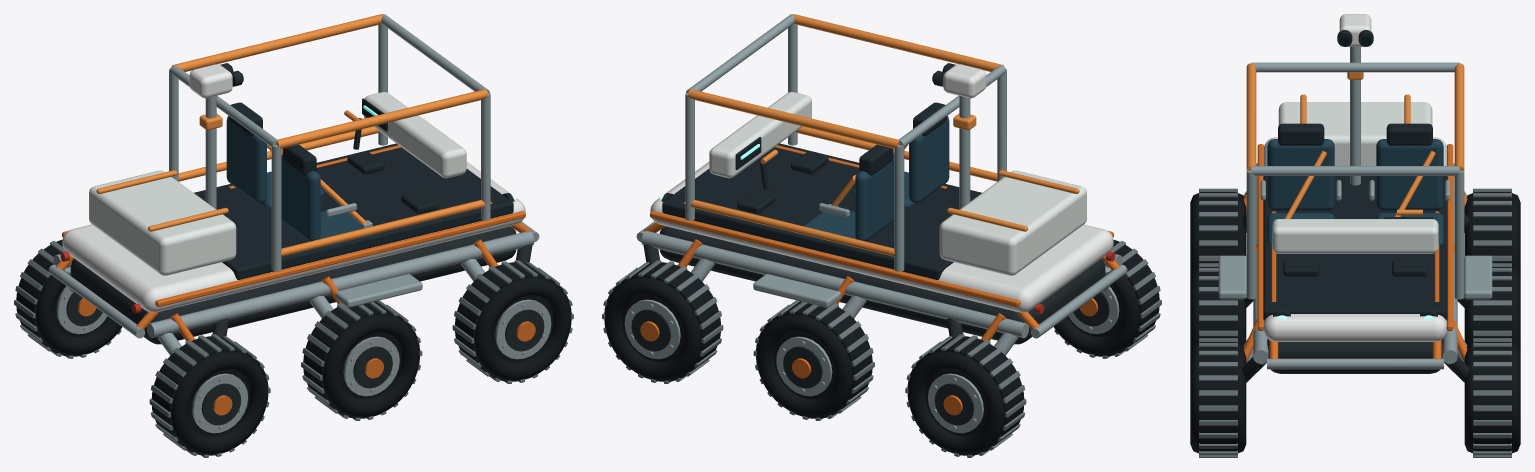
The model's file is rover-crewed.glb.
The picture shows the model from 3 angles, left to right: view 1: azimuth 30°, elevation 25°; view 2: azimuth 150°, elevation 25°; view 3: azimuth 270°, elevation 25°; orthographic projection.
Visible parts, largest first — view 1: rubber (×4), dark, orange (×2), white, titanium (×5), graphite (×5), metal, ceramic (×2), seam (×4), seat; view 2: rubber (×4), dark, orange (×2), white, titanium (×5), graphite (×5), metal, ceramic (×2), seam (×4), seat; view 3: rubber (×6), dark, metal, white, seam (×6), seat, orange (×2), ceramic (×2), graphite, titanium.
Boxes of the visible parts, x1,y1,x2,y2 form: rubber (×4): (16, 239, 571, 455); dark: (194, 98, 513, 279); orange (×2): (55, 14, 532, 340); white: (89, 92, 466, 275); titanium (×5): (48, 221, 551, 433); graphite (×5): (66, 193, 544, 425); metal: (169, 14, 490, 307); ceramic (×2): (62, 64, 525, 312); seam (×4): (14, 241, 573, 457); seat: (226, 116, 375, 246); rubber (×4): (604, 239, 1159, 455); dark: (662, 102, 981, 279); orange (×2): (643, 14, 1120, 340); white: (709, 92, 1086, 275); titanium (×5): (624, 221, 1127, 433); graphite (×5): (631, 193, 1109, 425); metal: (685, 14, 1006, 307); ceramic (×2): (650, 64, 1113, 312); seam (×4): (602, 241, 1161, 457); seat: (800, 116, 949, 246); rubber (×6): (1190, 192, 1520, 453); dark: (1263, 123, 1447, 320); metal: (1218, 47, 1492, 299); white: (1272, 102, 1438, 253); seam (×6): (1199, 188, 1511, 457); seat: (1267, 139, 1443, 244); orange (×2): (1243, 63, 1467, 362); ceramic (×2): (1263, 14, 1447, 341); graphite: (1242, 213, 1468, 382); titanium: (1243, 163, 1467, 369).
Size of the model in its own units: 4.01 by 2.96 by 2.79.
